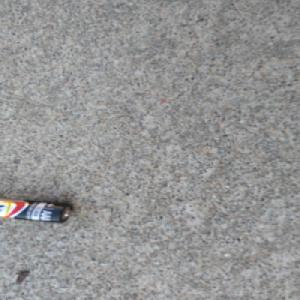Battery: (0, 198, 75, 223)
